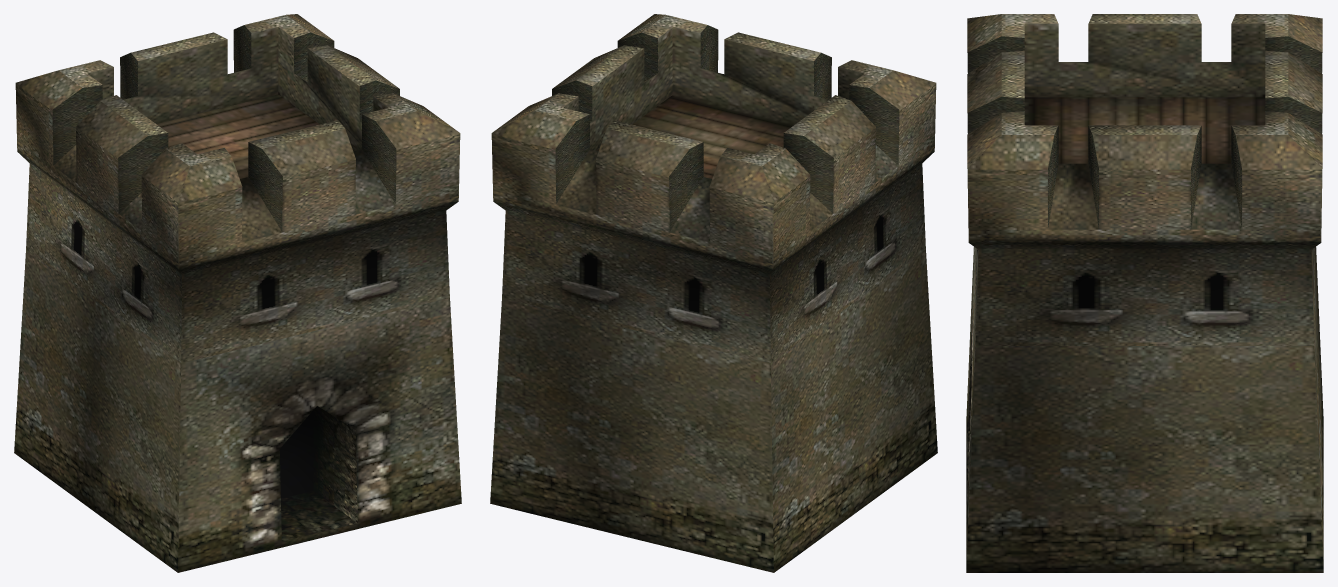
Rendered from stbuto2.dae.
The picture shows the model from 3 angles, left to right: view 1: azimuth 30°, elevation 25°; view 2: azimuth 150°, elevation 25°; view 3: azimuth 270°, elevation 25°; orthographic projection. The views are drawn at different scales.
Parts seen in each view (by area): view 1: kaniantower00; view 2: kaniantower00; view 3: kaniantower00.
Boxes of the visible parts, x1,y1,x2,y2 form: kaniantower00: (14, 14, 461, 572); kaniantower00: (490, 14, 937, 572); kaniantower00: (966, 14, 1323, 572).
Bounding box in the file's own units: 1.66 × 1.66 × 2.17.
1 material, 1 textured.
